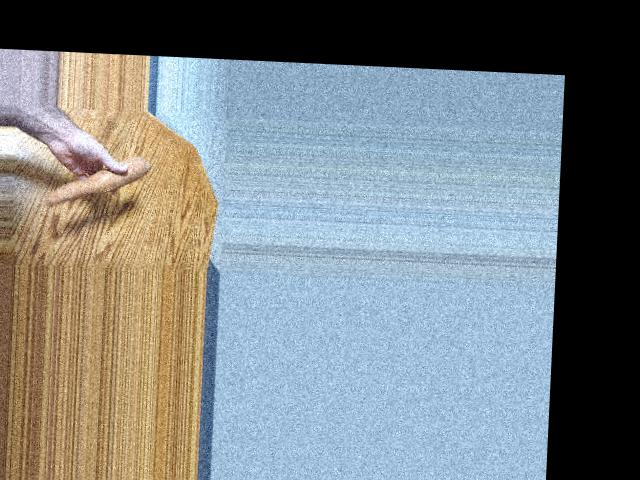sweet_potato: (44, 164, 154, 203)
